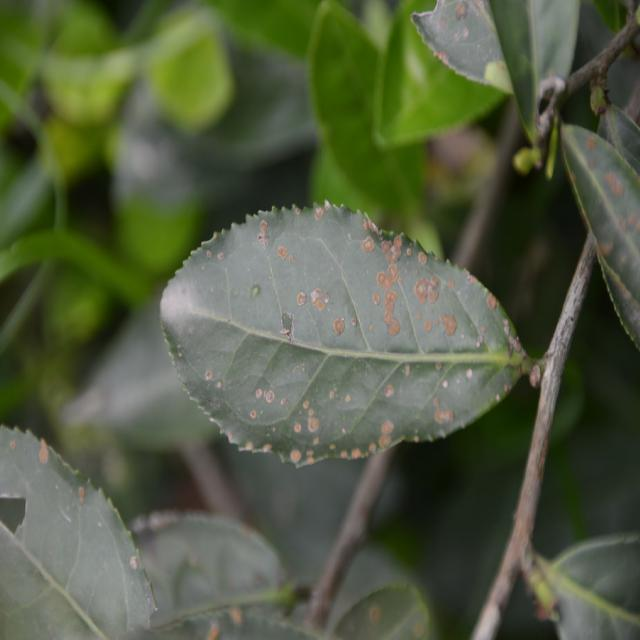Tea algae leaf spot: (176, 212, 543, 471)
